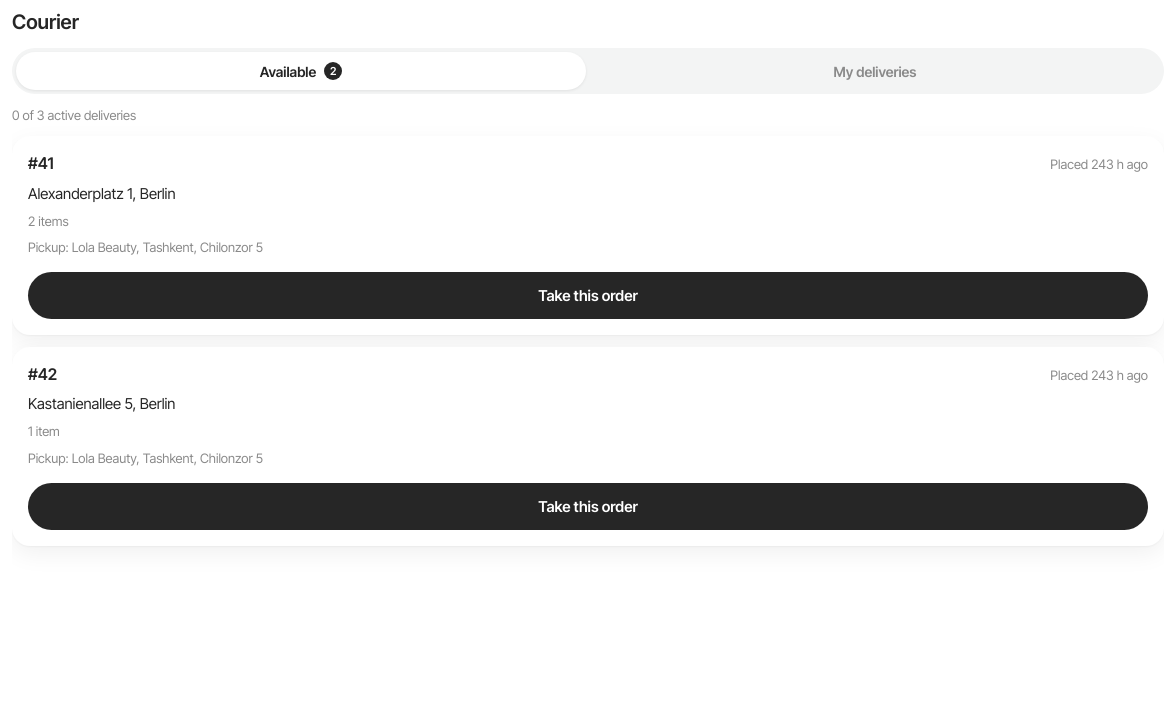
Test case: CourierScreen: pool › clears the previous message when the next action starts
Click the button "Take this order" below "2 items": (588, 296) [28,272,1148,319]
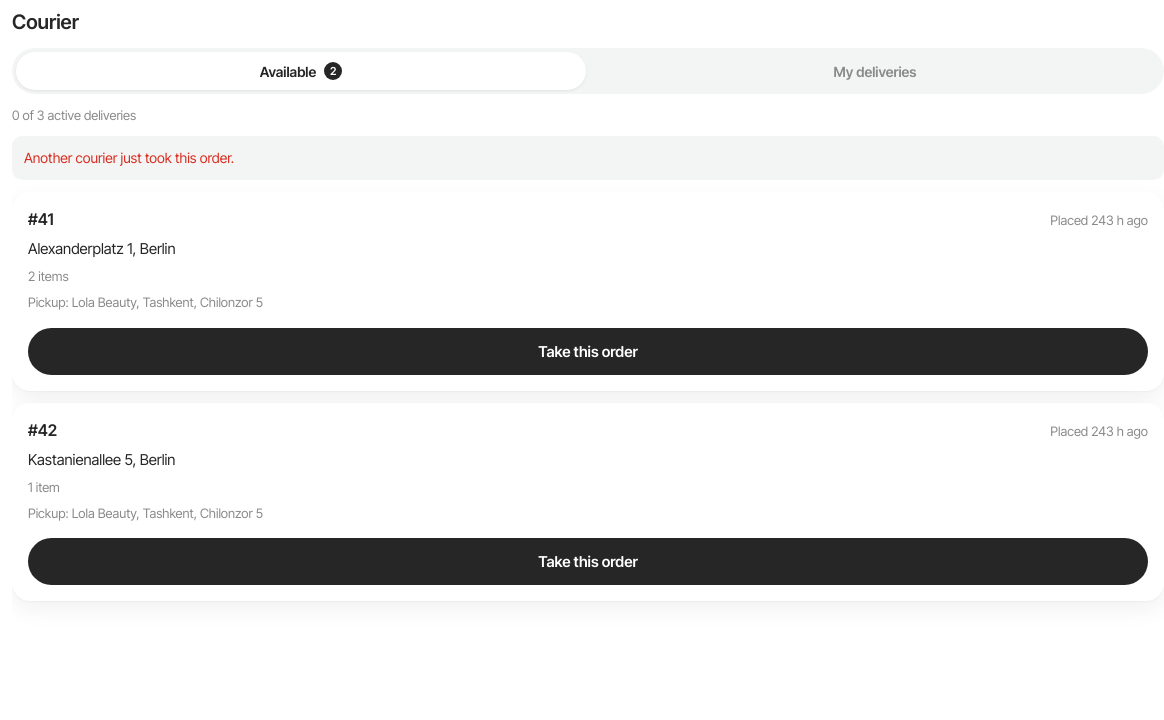
Expected: the message "Another courier just took this order." is shown, [12,136,1163,180]
Click the button "Take this order" below "2 items": (588, 351) [28,328,1148,374]
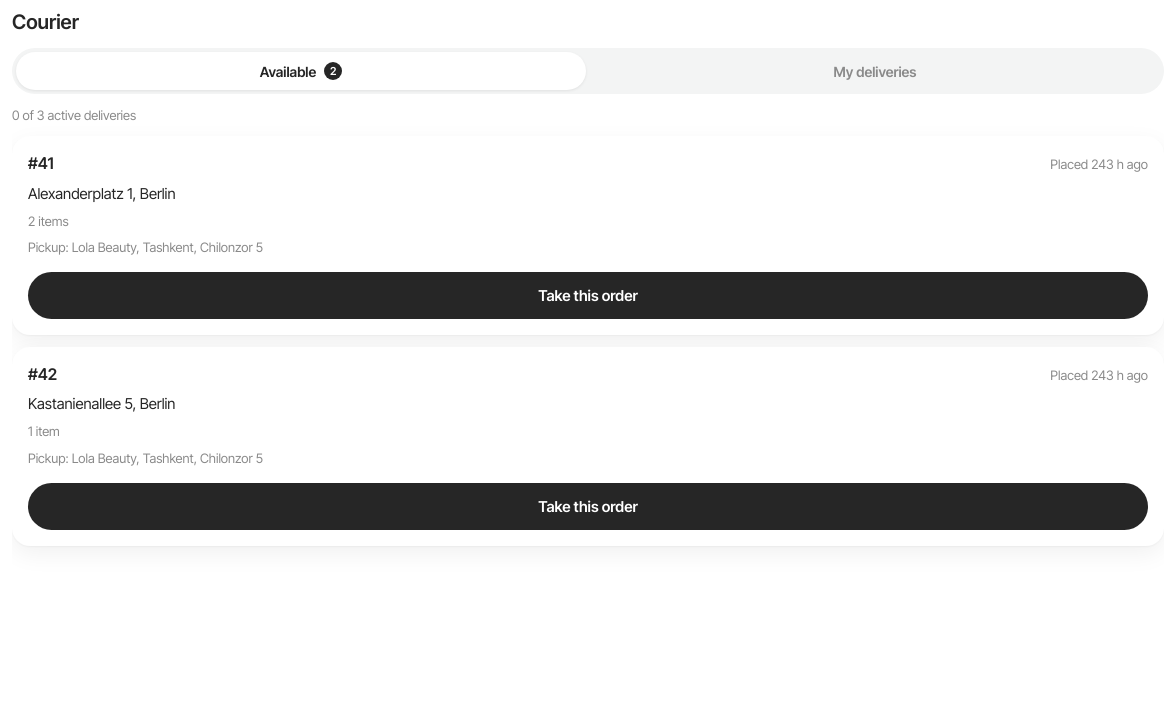
Expected: the message "Another courier just took this order." is gone
